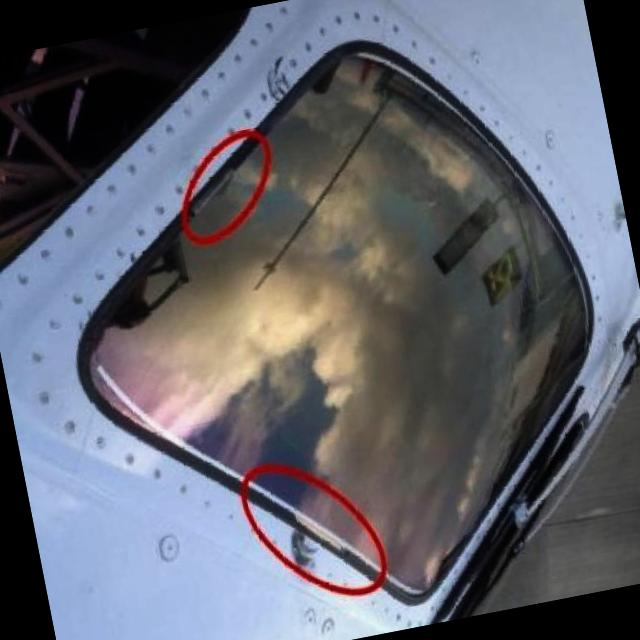crack: (260, 52, 292, 104)
